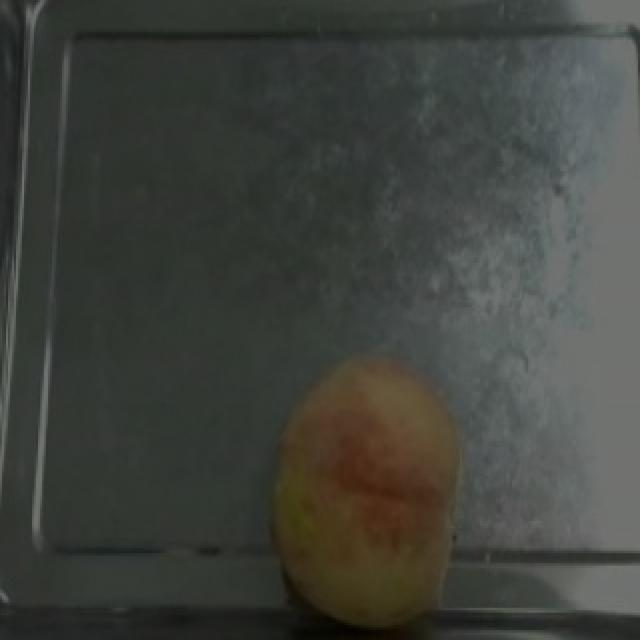Fruit: (258, 340, 480, 637)
